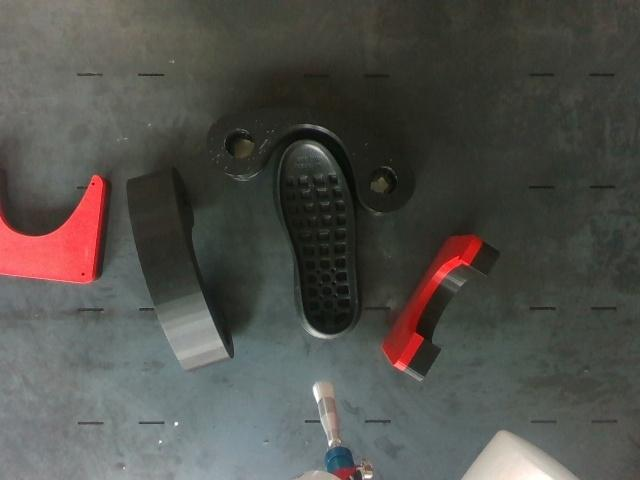shoes: (279, 141, 357, 334)
